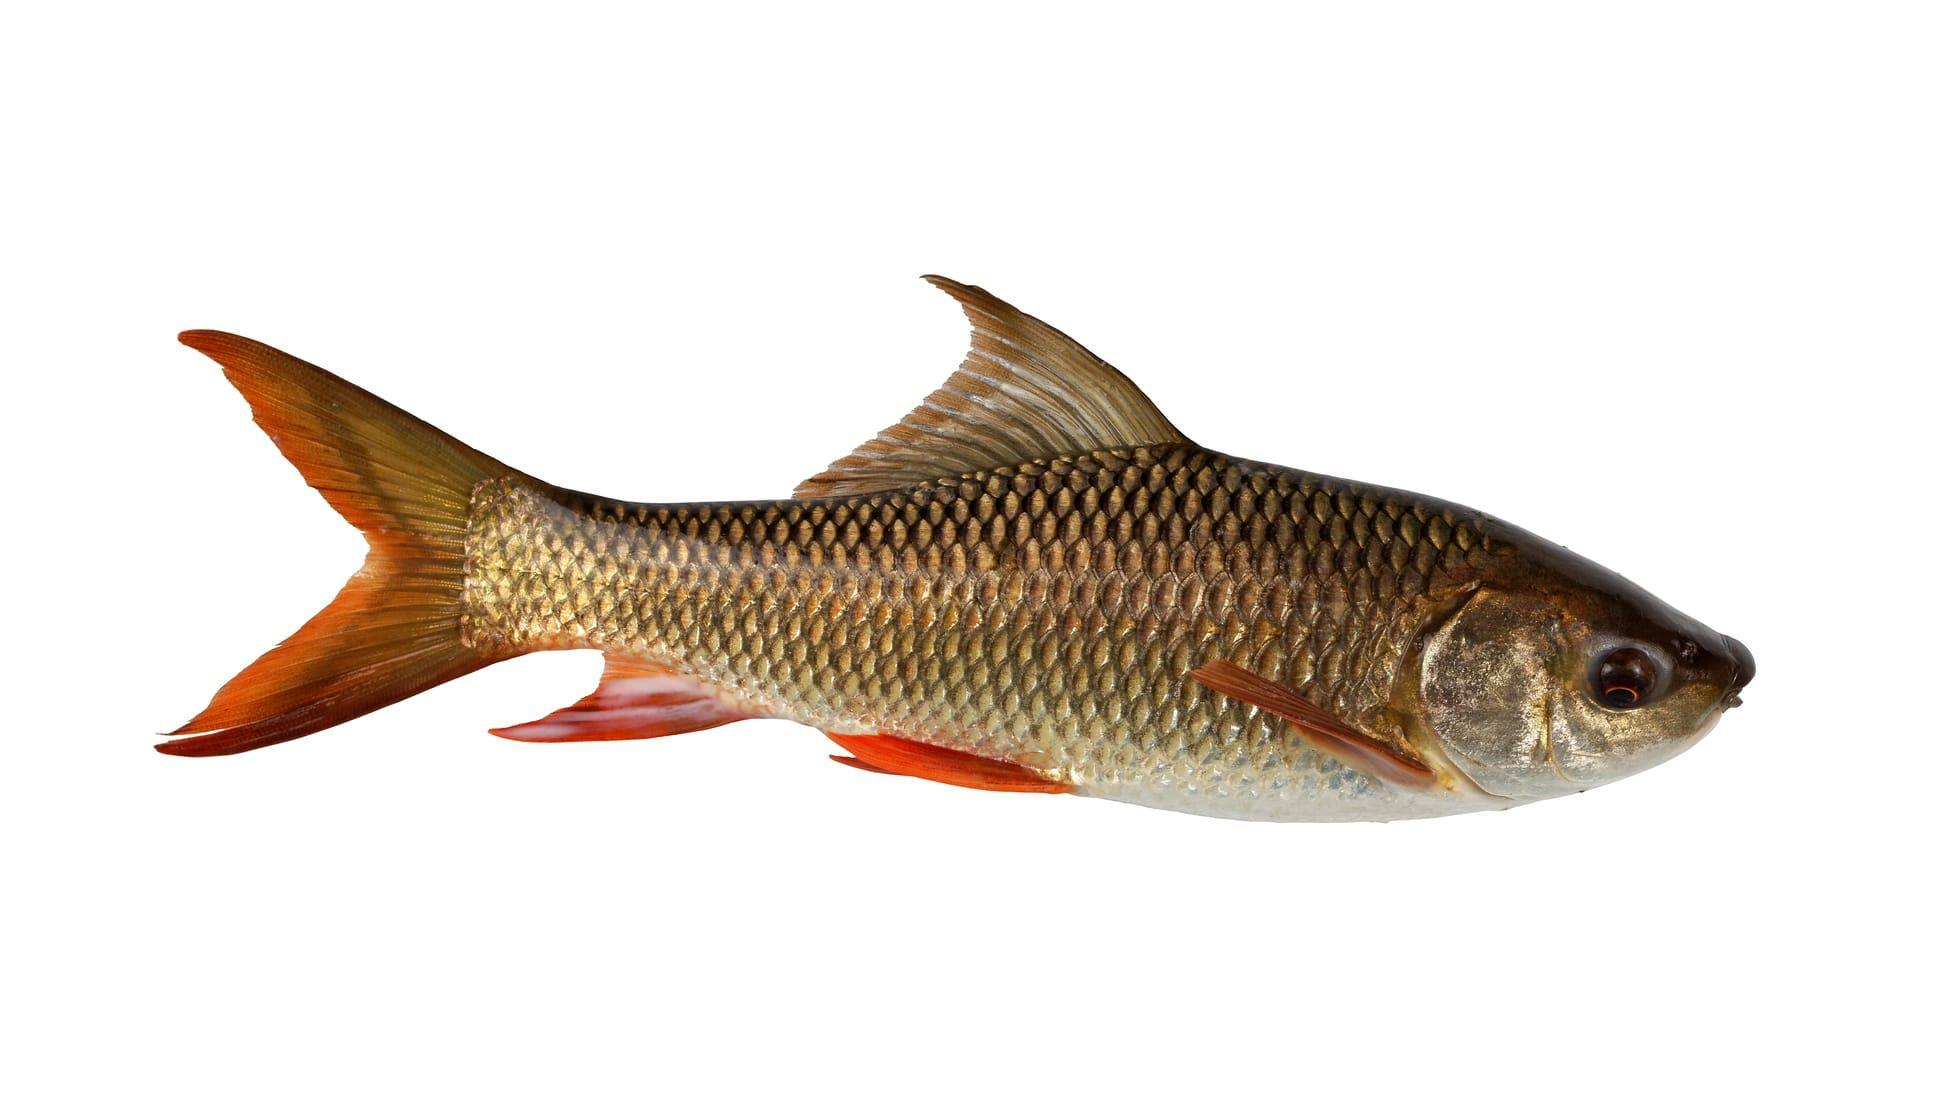Indian Carp: (157, 264, 1754, 854)
